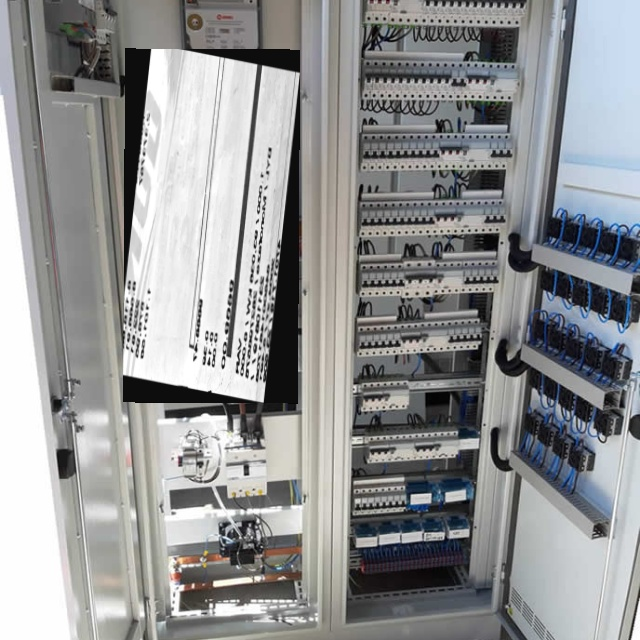electricity-bill: (123, 48, 300, 404)
